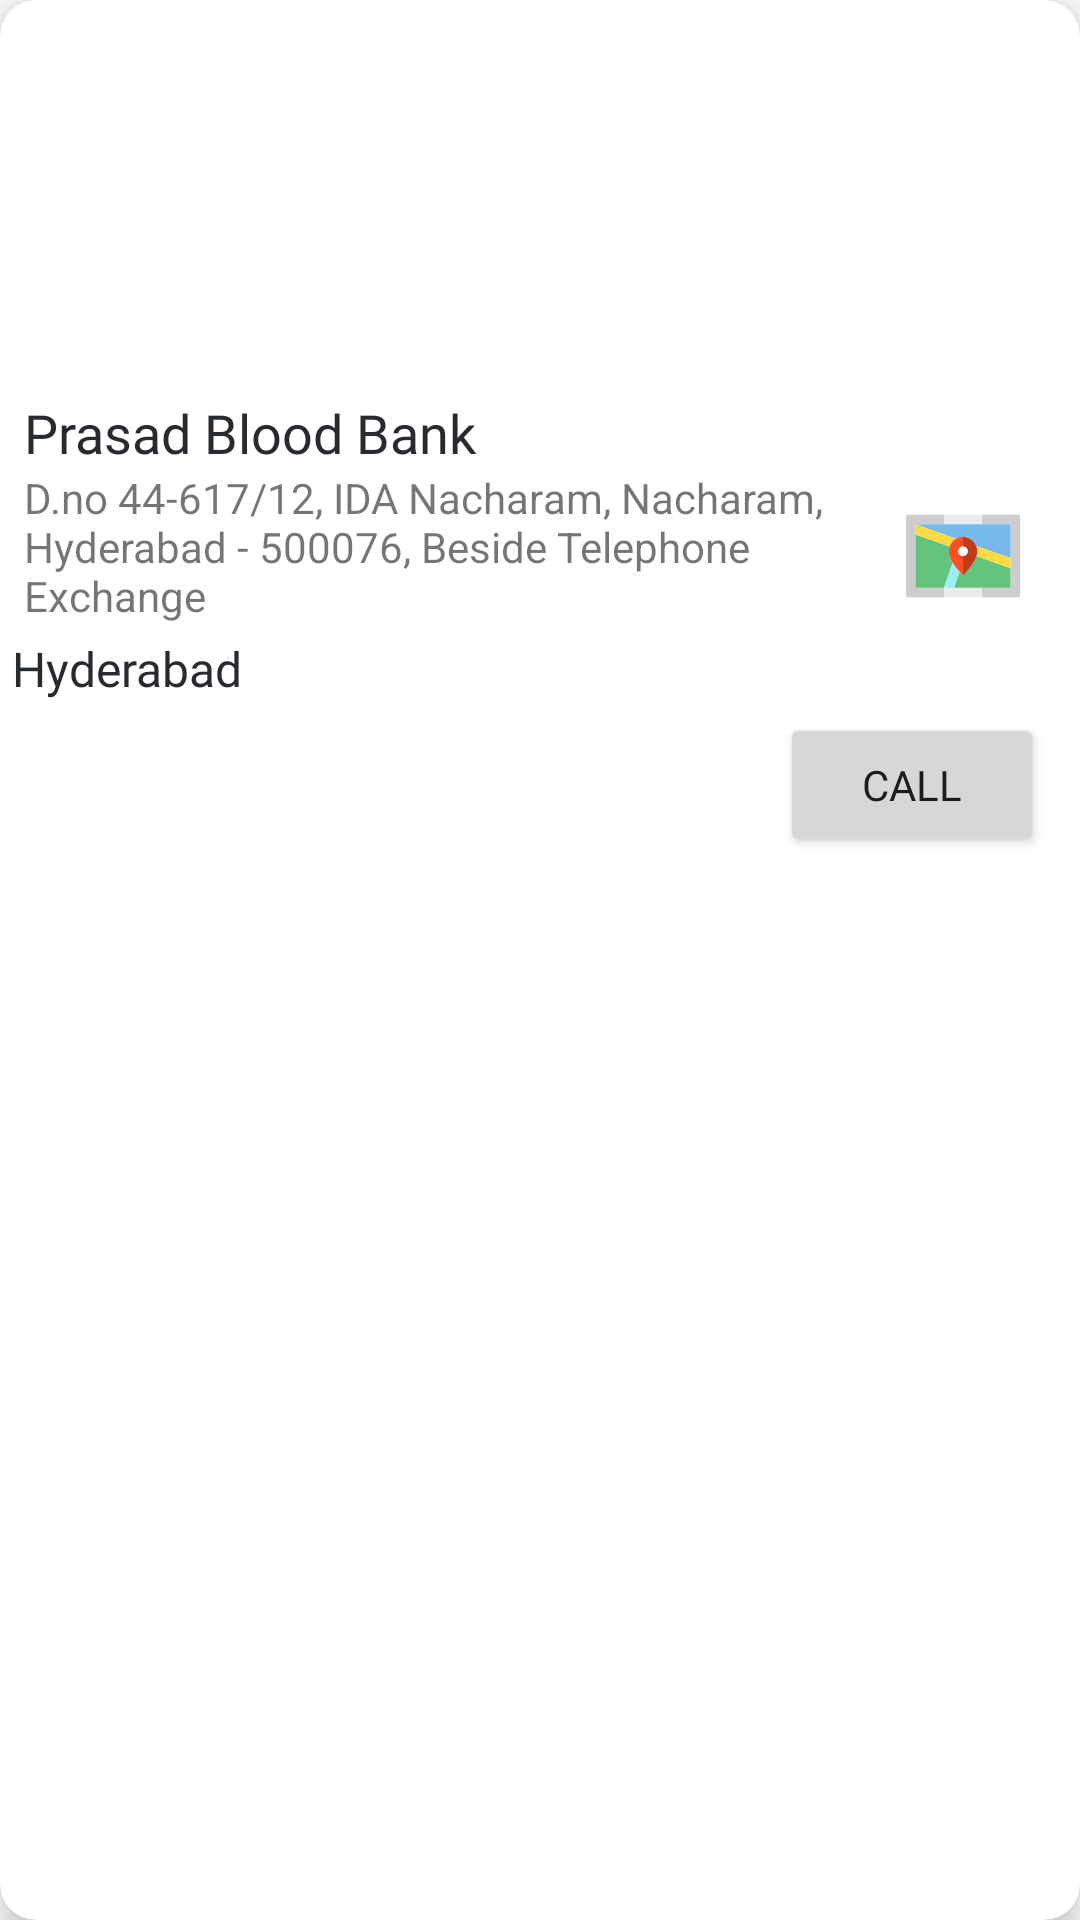

Icon click points for this 1080 × 1920 phone screenshot, format (x=x, y=y):
map: (x=963, y=556)
